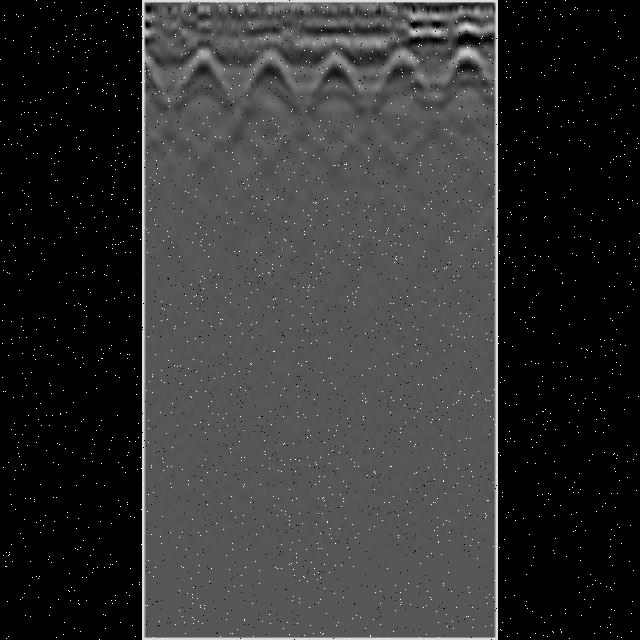hyperbola: (361, 45, 442, 107), (173, 44, 235, 104), (240, 48, 304, 104), (308, 49, 368, 105), (442, 38, 496, 98)
